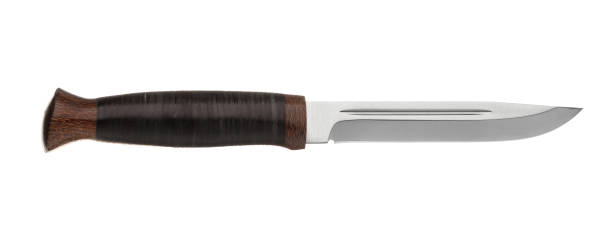knife: (35, 87, 585, 154)
